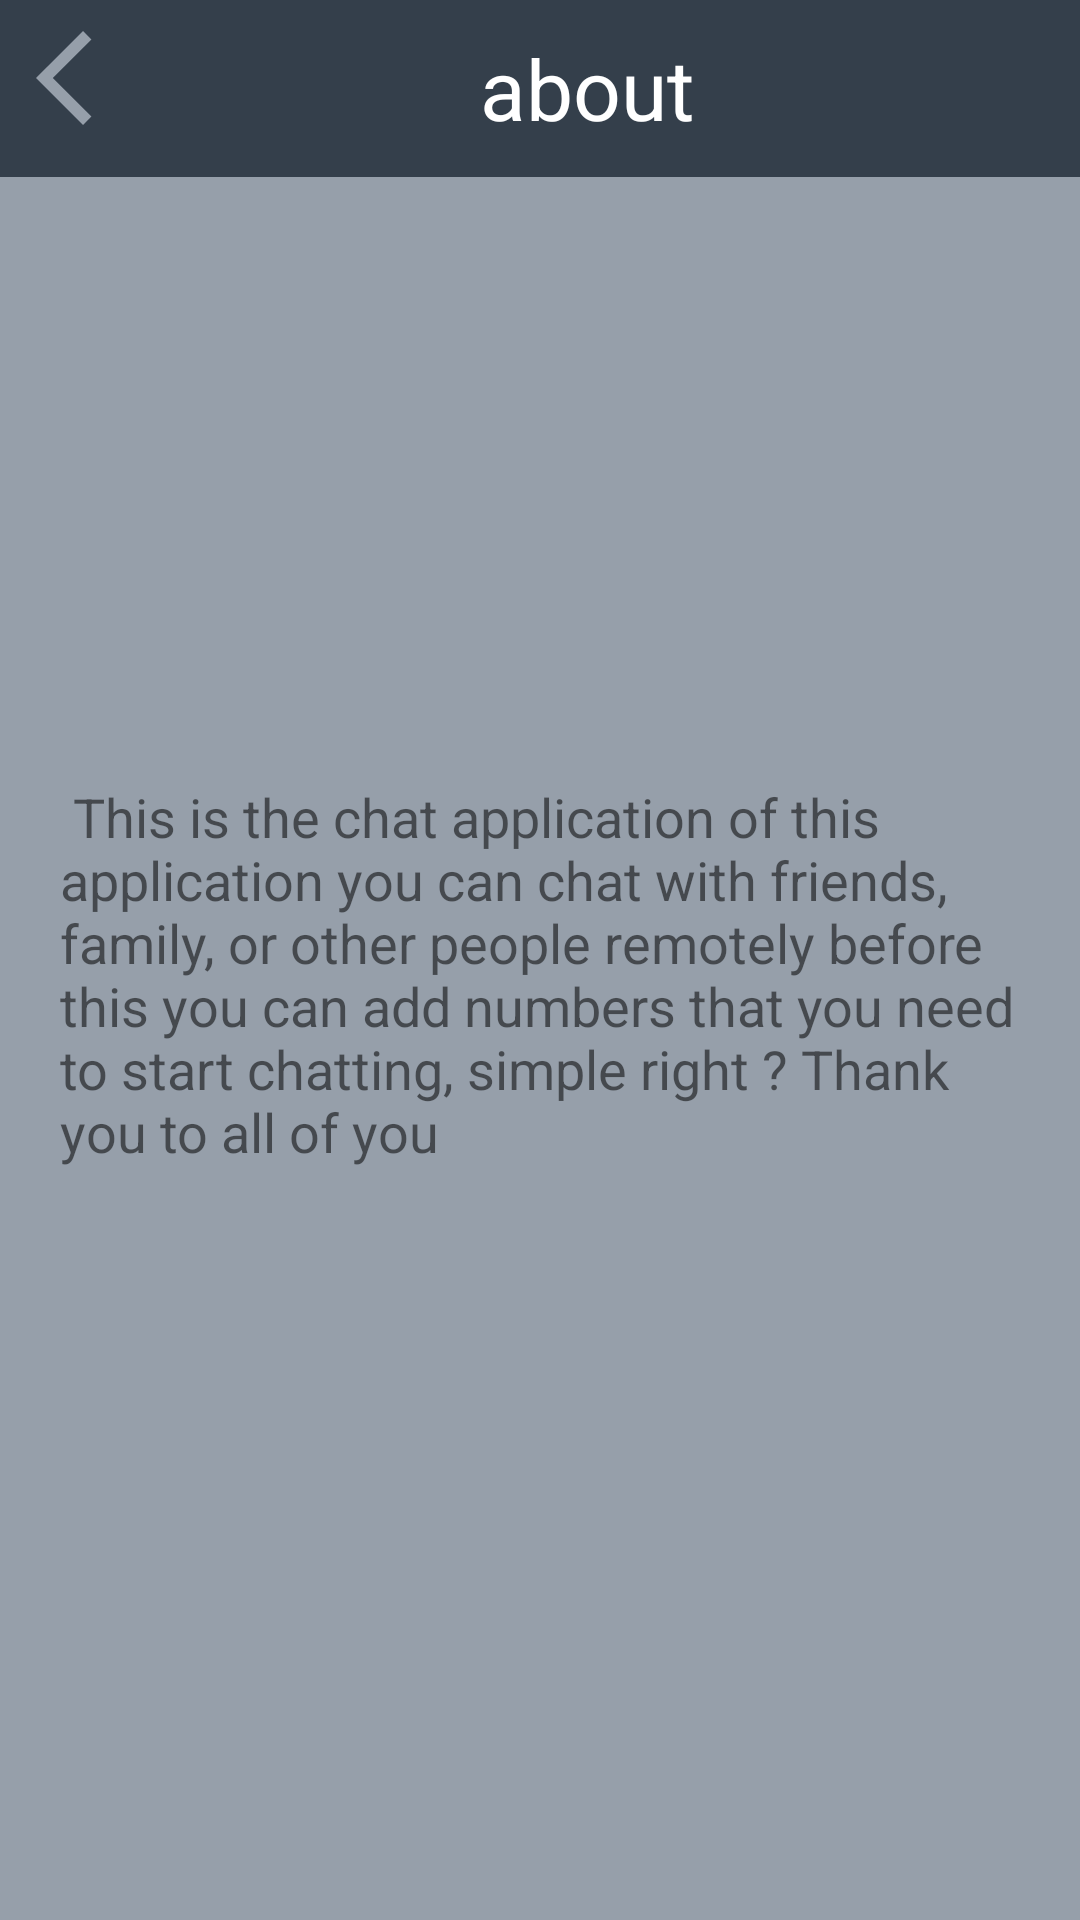

Where icons sit on this 1080 × 1920 app screen, as (x1, y1, x2, y2):
back arrow: (36, 31, 91, 125)
